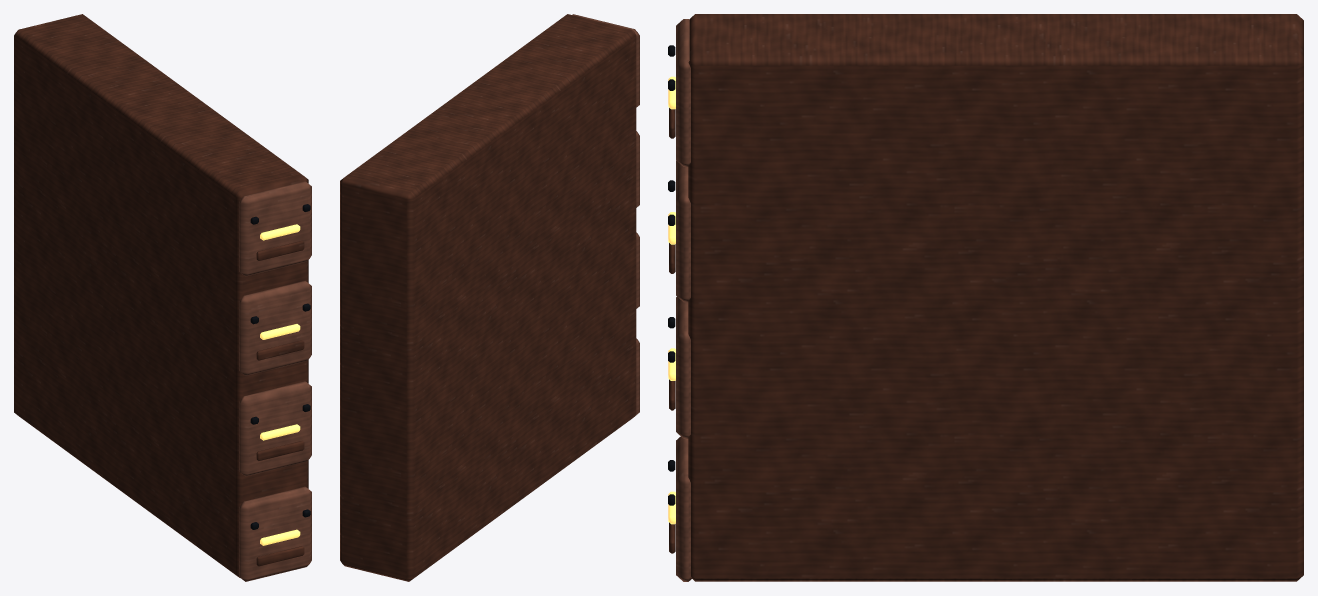
Rendered from scrapyard_expanse_wall.glb.
3 renders of one model, left to right at view 1: azimuth 30°, elevation 25°; view 2: azimuth 150°, elevation 25°; view 3: azimuth 270°, elevation 25°, orthographic. The views are drawn at different scales.
Parts seen in each view (by area): view 1: scrapyard_expanse_wall - scrapyard_expanse panels, scrapyard_expanse_wall - scrapyard_expanse trim, scrapyard_expanse_wall - scrapyard_expanse accents, scrapyard_expanse_wall - Recessed iron; view 2: scrapyard_expanse_wall - scrapyard_expanse panels, scrapyard_expanse_wall - scrapyard_expanse trim; view 3: scrapyard_expanse_wall - scrapyard_expanse panels, scrapyard_expanse_wall - scrapyard_expanse trim.
Part boxes in pixels (<box>): scrapyard_expanse_wall - scrapyard_expanse panels: <box>14,14,308,577</box>; scrapyard_expanse_wall - scrapyard_expanse trim: <box>239,181,311,581</box>; scrapyard_expanse_wall - scrapyard_expanse accents: <box>260,224,300,545</box>; scrapyard_expanse_wall - Recessed iron: <box>250,204,310,529</box>; scrapyard_expanse_wall - scrapyard_expanse panels: <box>340,14,636,581</box>; scrapyard_expanse_wall - scrapyard_expanse trim: <box>572,14,639,414</box>; scrapyard_expanse_wall - scrapyard_expanse panels: <box>669,14,1303,581</box>; scrapyard_expanse_wall - scrapyard_expanse trim: <box>676,19,691,581</box>.
Size of the model in its own units: 0.79 by 4.01 by 4.39.
Materials: 4 (3 with a texture image).
